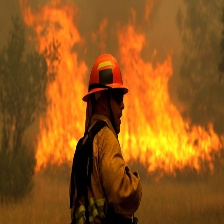fire: (32, 8, 224, 168)
